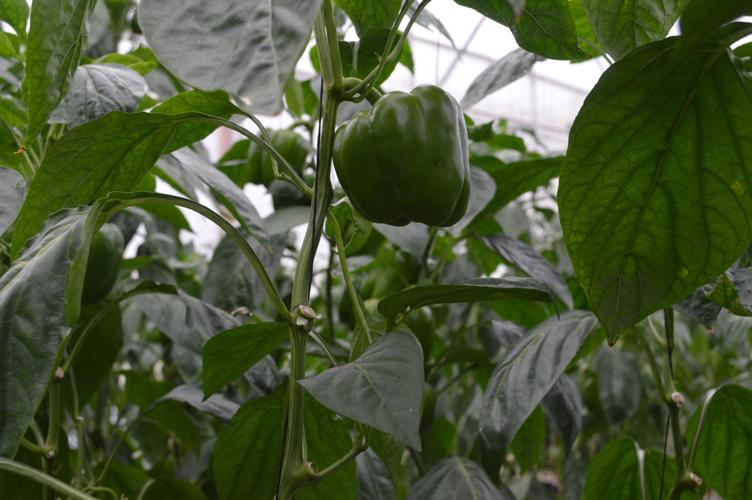BellPepper: (334, 85, 471, 229), (241, 127, 308, 183)
